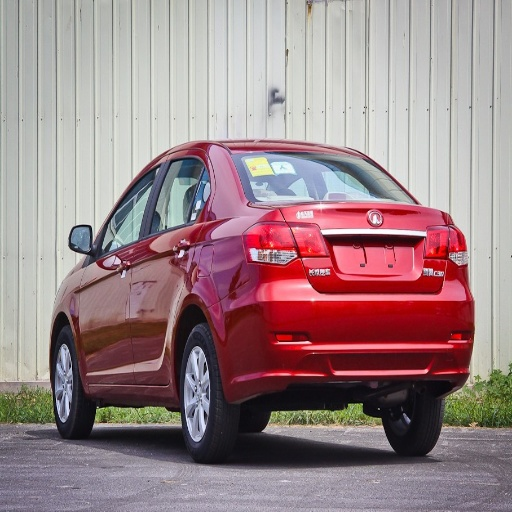back_bumper: (220, 262, 476, 395)
back_glass: (234, 155, 408, 202)
back_left_door: (131, 149, 209, 384)
tailgate: (277, 199, 439, 294)
